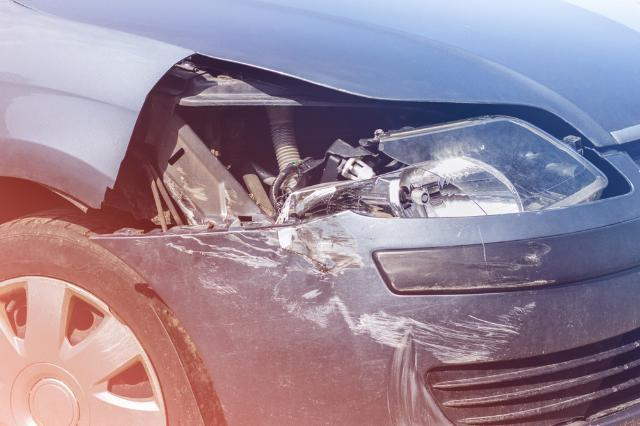dislocated part: (89, 189, 640, 426)
lamp broken: (273, 115, 609, 228)
scratch: (164, 218, 552, 426)
